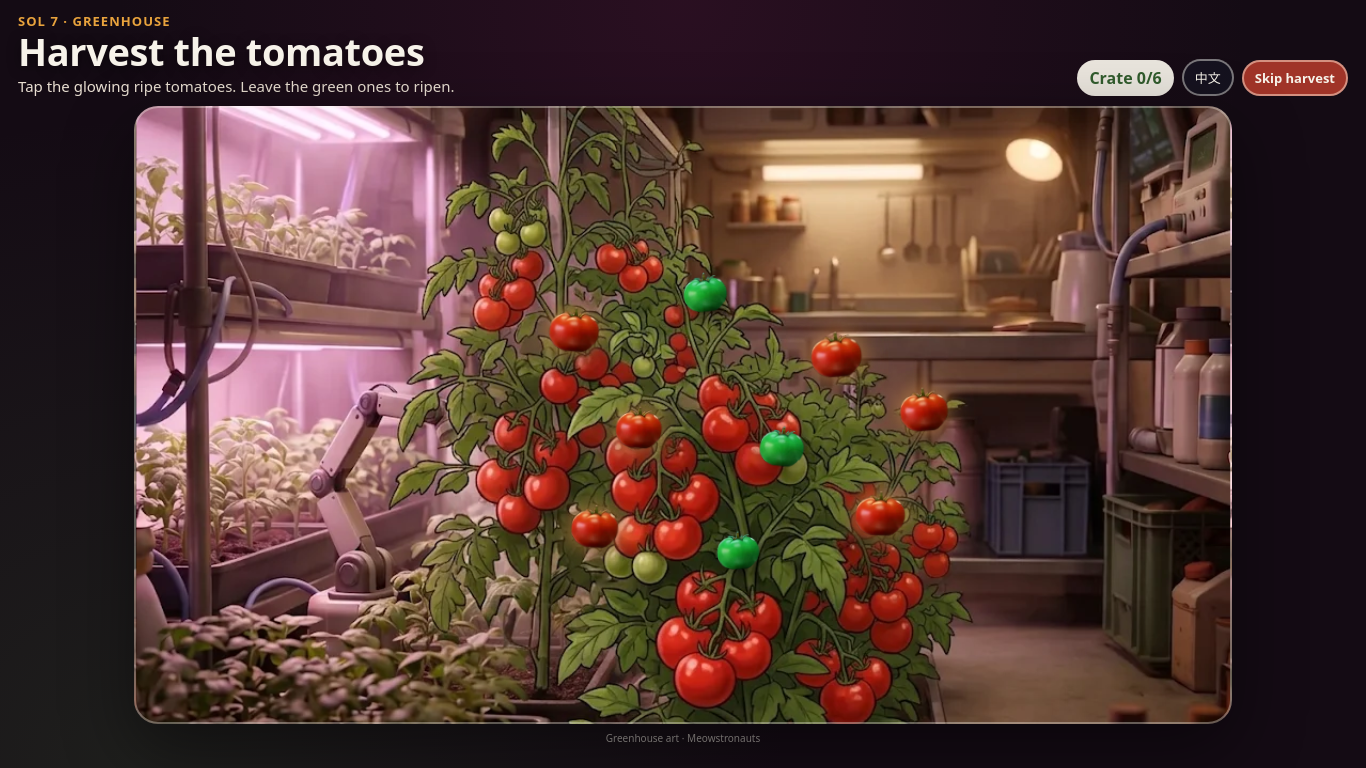
Test: TomatoHarvestGame › does not harvest a green tomato
The image size is (1366, 768).
Click the button with test id "tomato-vine-2" at (705, 292), box [680,269,730,315]
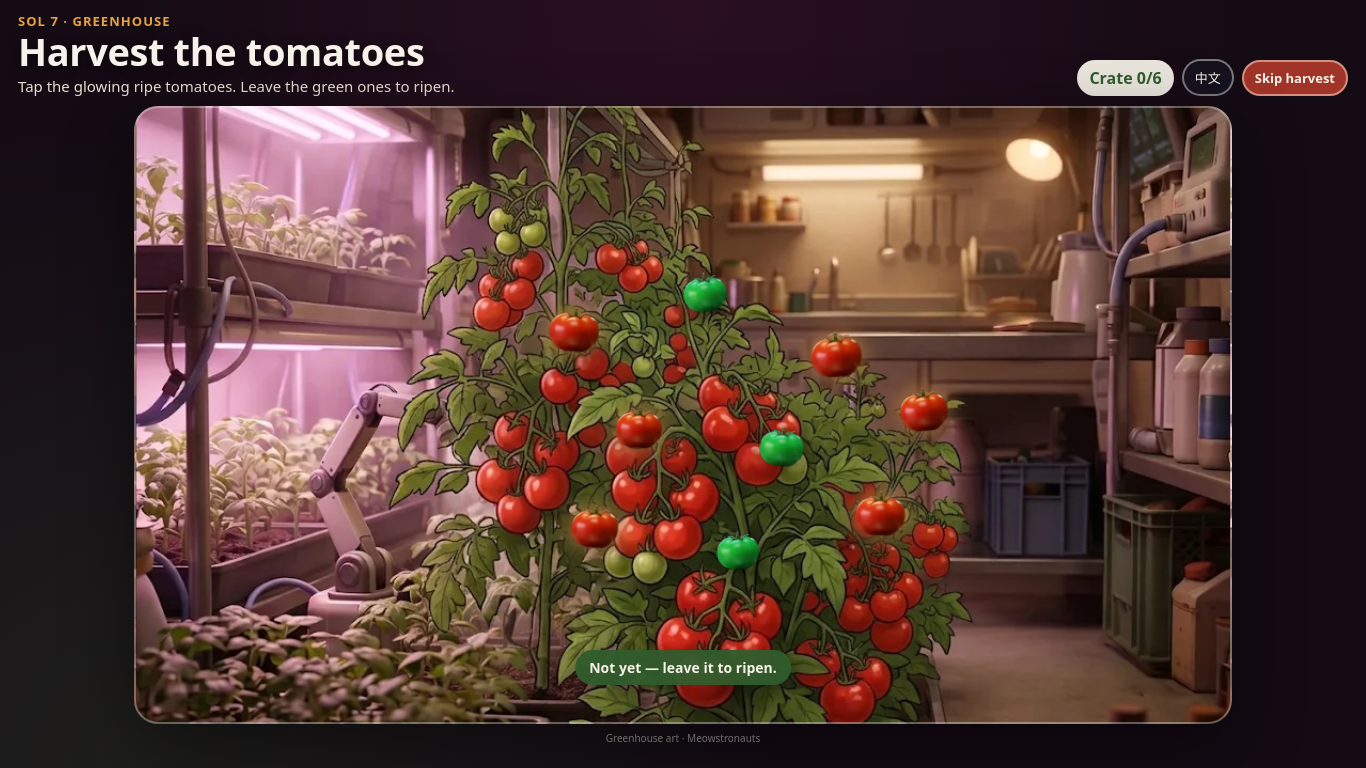
Expected: the text with test id "tomato-counter" shows "0/6", [1089,67,1162,89]
Expected: the message with test id "tomato-toast" shows "Not yet", [589,658,777,677]
